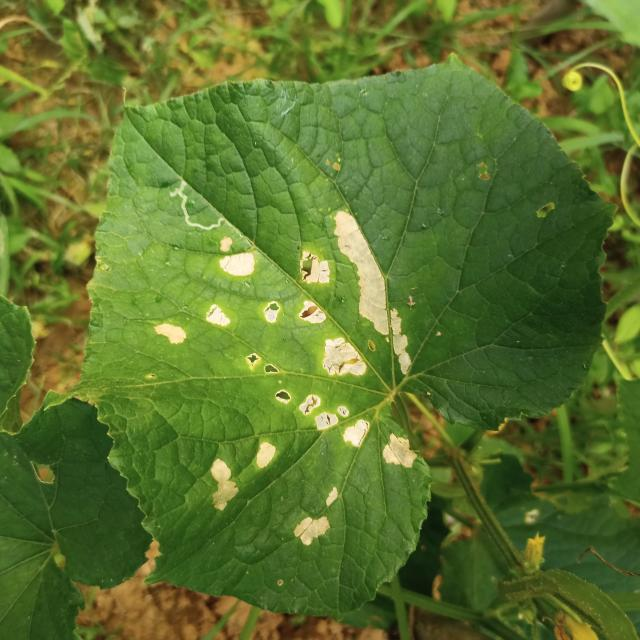disease_cucumber: (155, 208, 421, 477), (203, 439, 280, 516), (290, 488, 344, 549)
